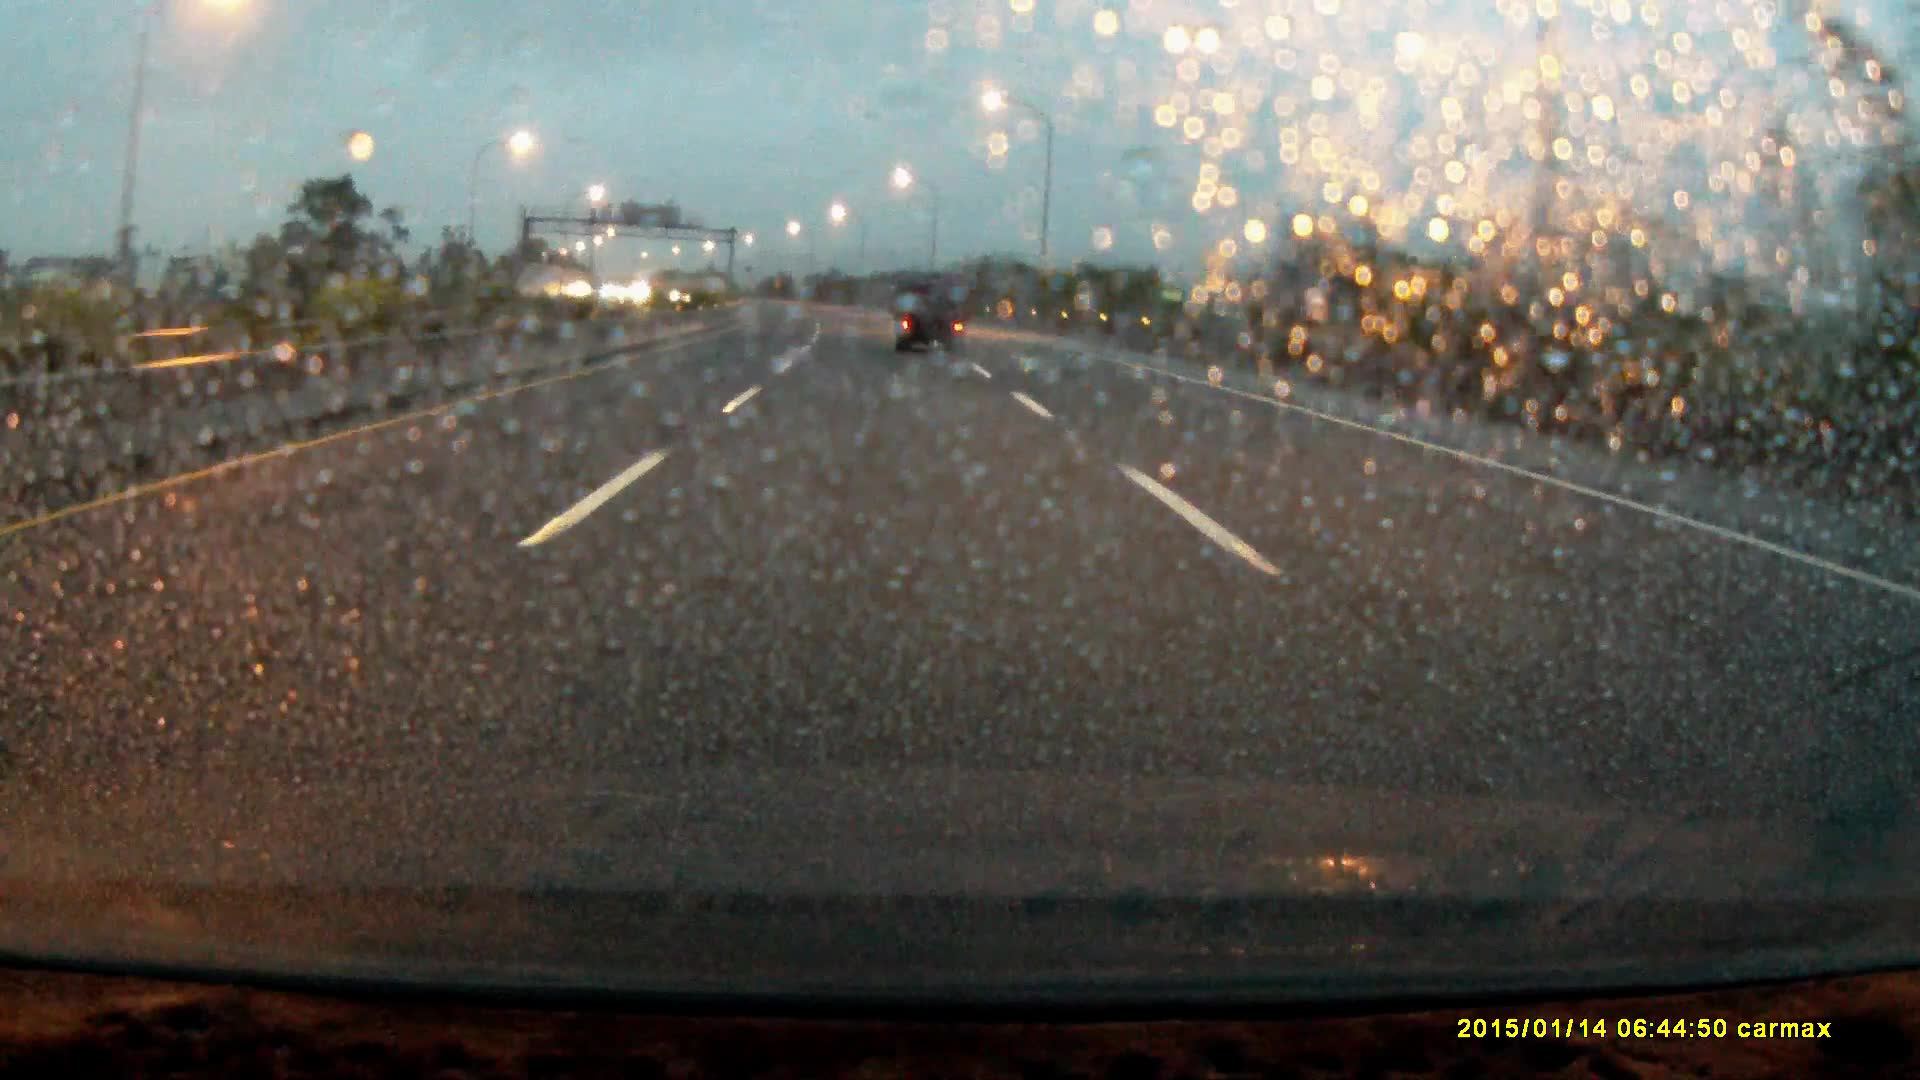vehicle: (895, 272, 968, 355)
